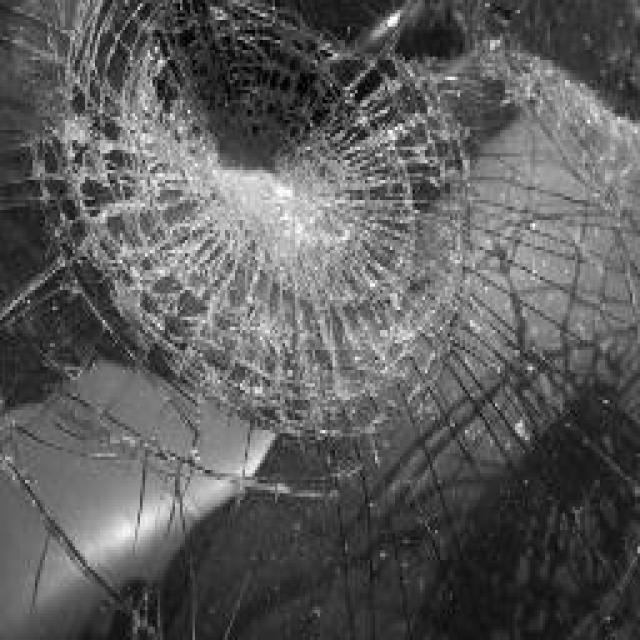Windshield: (2, 3, 640, 637)
